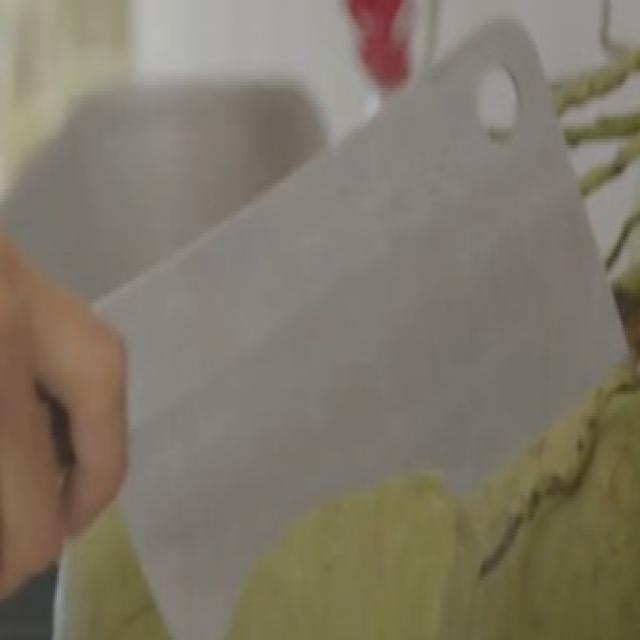knives: (104, 12, 625, 624)
